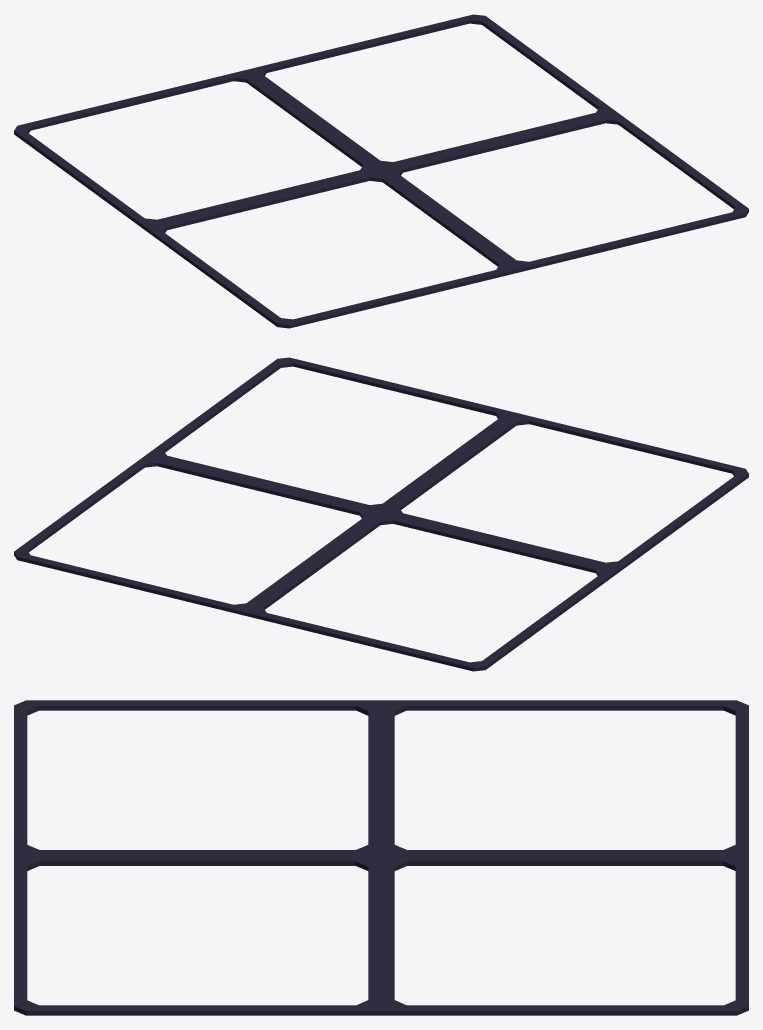
The model's file is GroundCapot.fbx.
3 renders of one model, top to bottom at view 1: azimuth 30°, elevation 25°; view 2: azimuth 150°, elevation 25°; view 3: azimuth 270°, elevation 25°, orthographic. The views are drawn at different scales.
Visible parts, largest first — view 1: GroundCapot; view 2: GroundCapot; view 3: GroundCapot.
Boxes of the visible parts, x1,y1,x2,y2 form: GroundCapot: (14, 14, 748, 328); GroundCapot: (14, 357, 748, 671); GroundCapot: (14, 700, 748, 1015).
Size of the model in its own units: 400 by 2.8 by 400.
